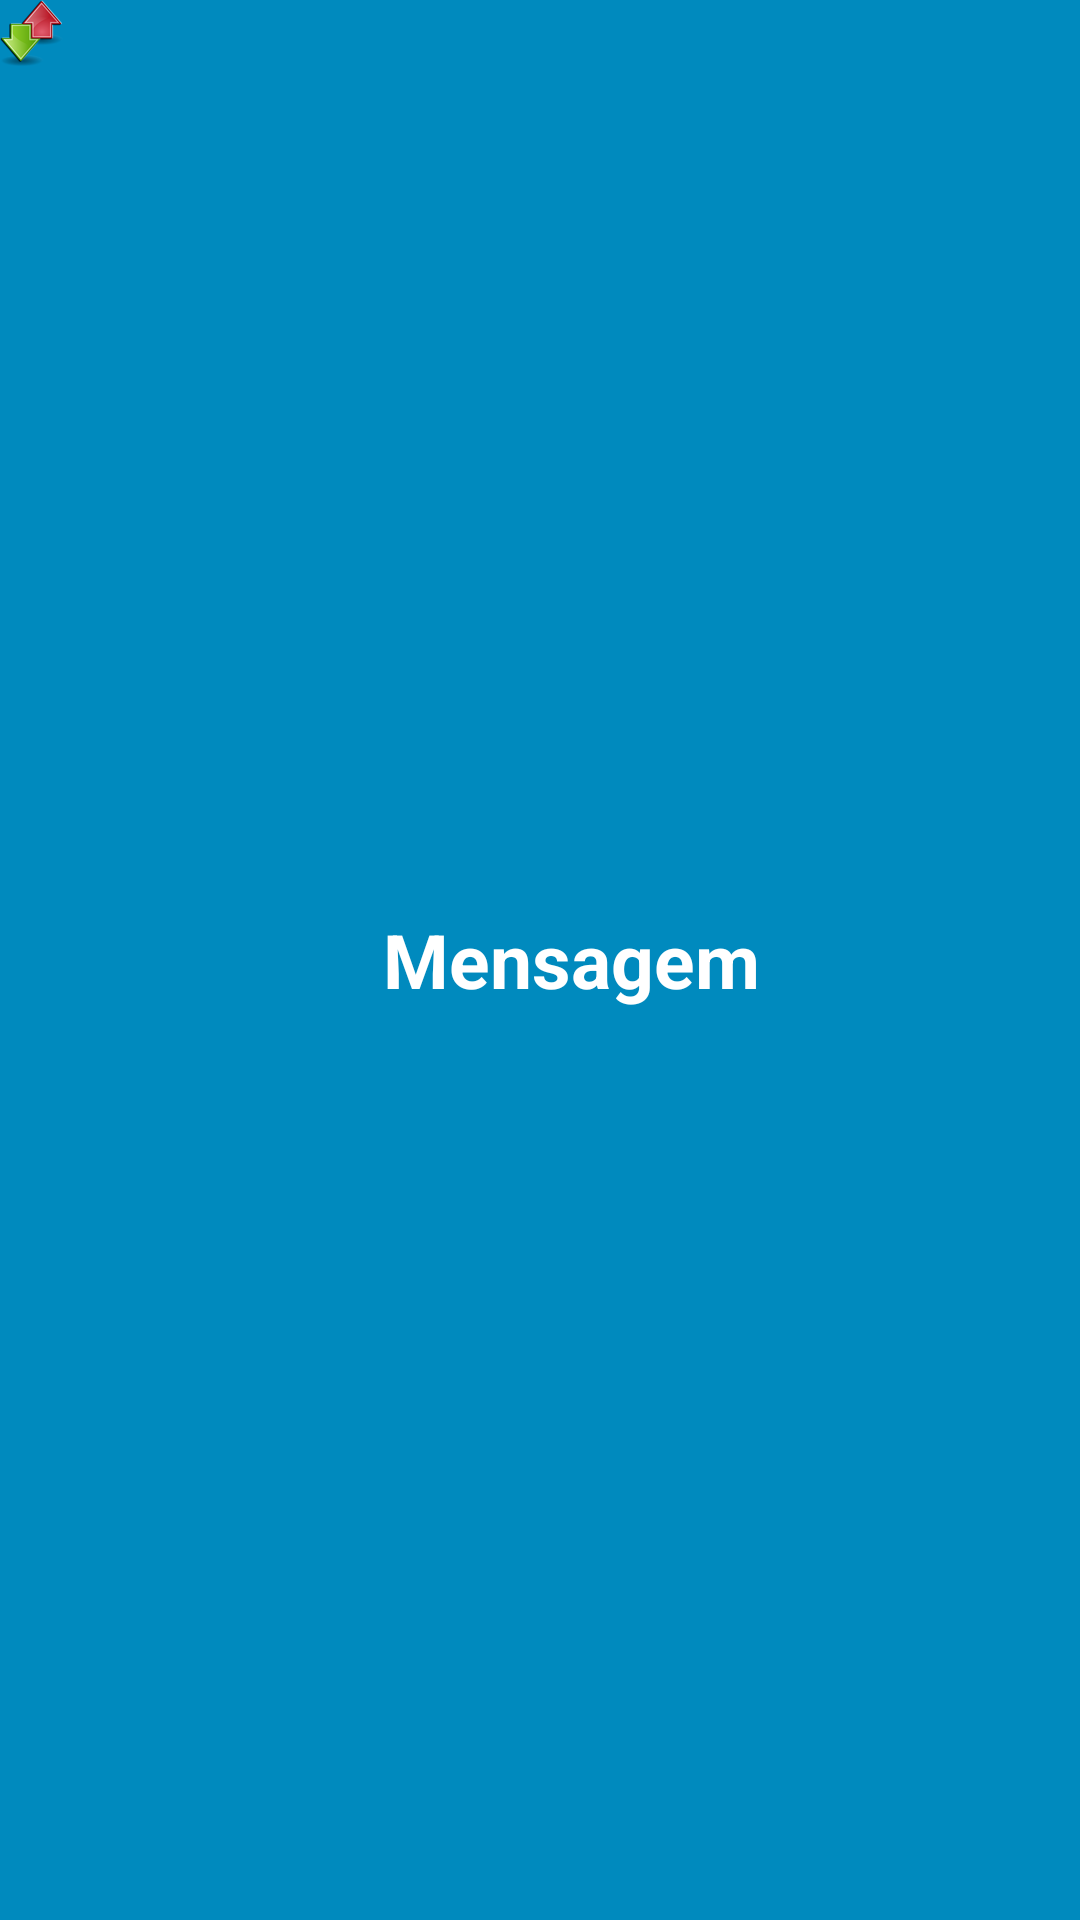

Named icons in this screenshot (1080px×1920px) and their centers, (x=x, y=y):
imagem do título: (x=31, y=32)
